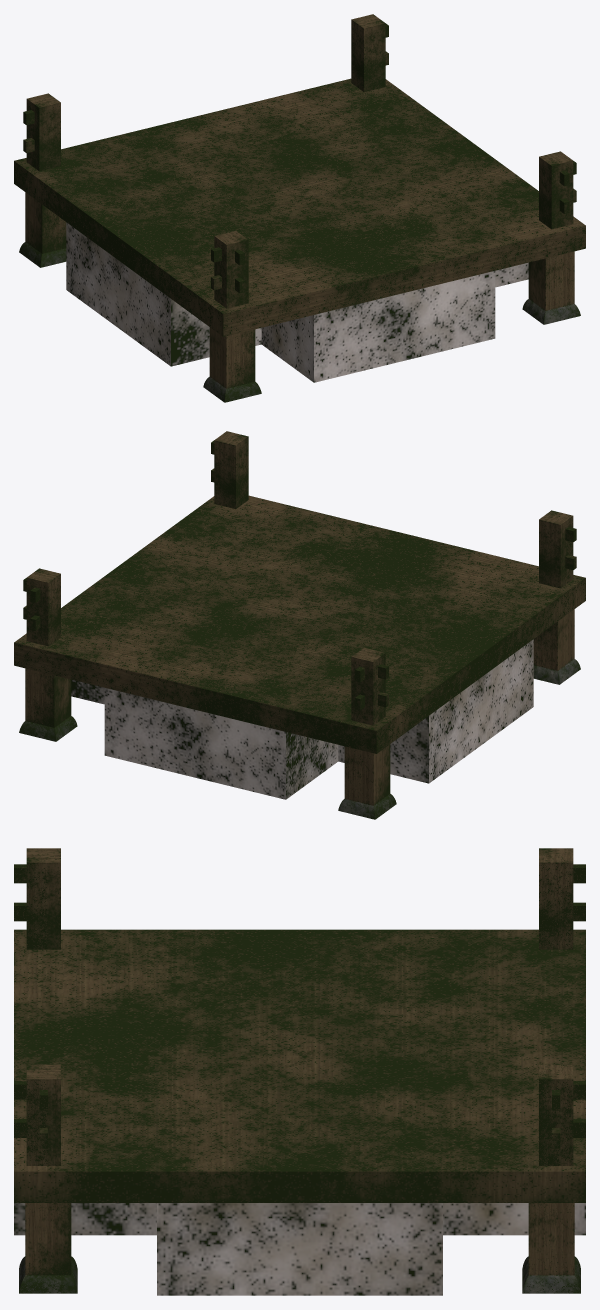
Rendered from shrine_floor_outside_cross_01.fbx.
3 renders of one model, top to bottom at view 1: azimuth 30°, elevation 25°; view 2: azimuth 150°, elevation 25°; view 3: azimuth 270°, elevation 25°, orthographic. The views are drawn at different scales.
Parts seen in each view (by area): view 1: shrine_floor_outside_cross_01; view 2: shrine_floor_outside_cross_01; view 3: shrine_floor_outside_cross_01.
Boxes of the visible parts, bbox=[...] form: shrine_floor_outside_cross_01: bbox=[14, 14, 585, 402]; shrine_floor_outside_cross_01: bbox=[14, 431, 585, 819]; shrine_floor_outside_cross_01: bbox=[14, 848, 585, 1295].
Size of the model in its own units: 330 by 134 by 330.
1 material, 1 textured.
